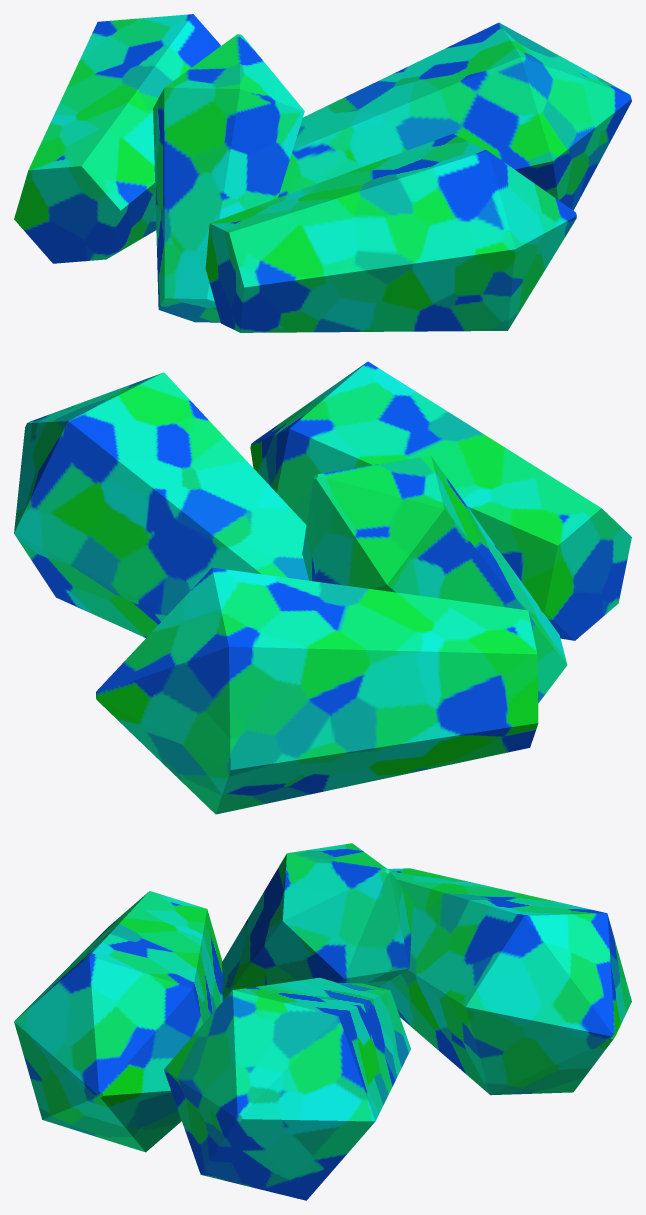
The model's file is slime crystals.fbx.
3 views of the same model, one above another, from view 1: azimuth 30°, elevation 25°; view 2: azimuth 150°, elevation 25°; view 3: azimuth 270°, elevation 25° (orthographic). The views are drawn at different scales.
Visible parts, largest first — view 1: crystals; view 2: crystals; view 3: crystals.
Part boxes in pixels (<box>): crystals: <box>14,14,631,332</box>; crystals: <box>14,361,631,814</box>; crystals: <box>14,843,631,1200</box>.
Bounding box in the file's own units: 133 × 54.09 × 132.
